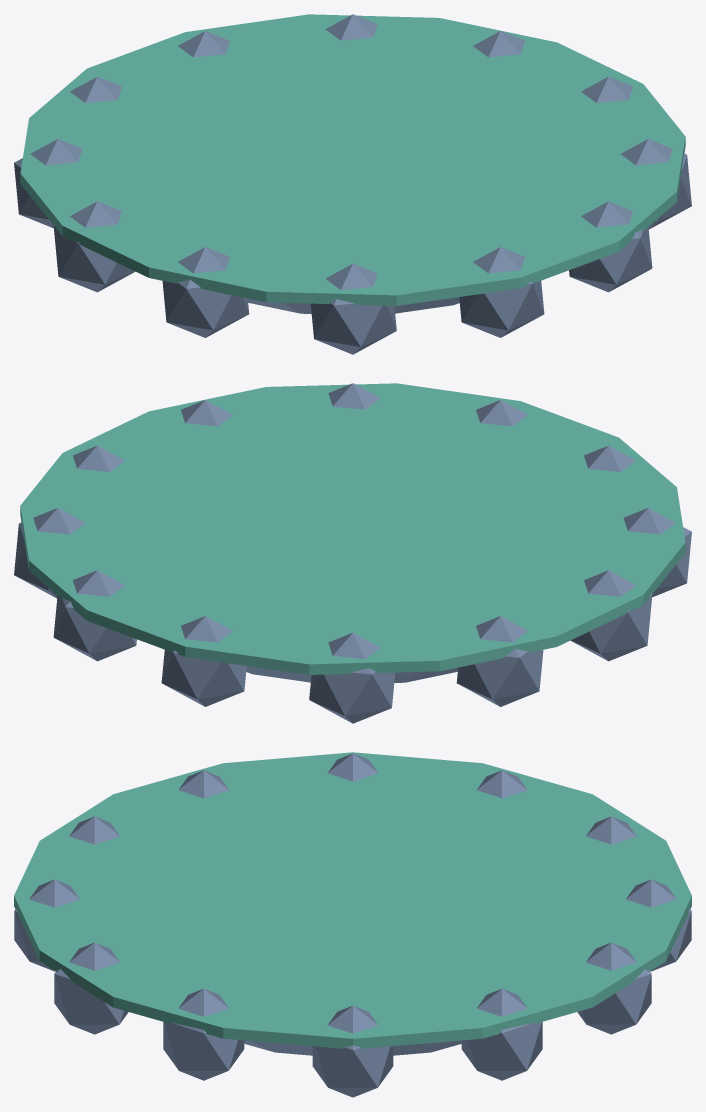
The model's file is island.glb.
The picture shows the model from 3 angles, top to bottom: view 1: azimuth 30°, elevation 25°; view 2: azimuth 150°, elevation 25°; view 3: azimuth 270°, elevation 25°; orthographic projection.
Visible parts, largest first — view 1: Grass rim, Cliff.008, Cliff.007, Cliff.009, Cliff.010, Cliff.006, Cliff.005, Cliff.011, Island rock, Cliff.002, Cliff.003, Cliff (+2 smaller); view 2: Grass rim, Cliff.004, Cliff.005, Cliff.003, Cliff.002, Cliff.006, Cliff.007, Cliff.001, Island rock, Cliff.010, Cliff.009, Cliff (+2 smaller); view 3: Grass rim, Cliff, Cliff.001, Cliff.011, Cliff.002, Cliff.010, Cliff.003, Cliff.009, Island rock, Cliff.006, Cliff.005, Cliff.007 (+2 smaller).
Boxes of the visible parts, x1,y1,x2,y2 form: Grass rim: [20, 14, 685, 305]; Cliff.008: [310, 264, 396, 354]; Cliff.007: [162, 247, 249, 337]; Cliff.009: [459, 247, 544, 337]; Cliff.010: [569, 201, 652, 292]; Cliff.006: [53, 201, 135, 292]; Cliff.005: [14, 139, 82, 228]; Cliff.011: [621, 139, 691, 229]; Island rock: [248, 297, 459, 313]; Cliff.002: [325, 14, 377, 40]; Cliff.003: [178, 31, 229, 57]; Cliff: [581, 76, 632, 102]; Grass rim: [20, 383, 685, 674]; Cliff.004: [309, 633, 395, 723]; Cliff.005: [456, 616, 543, 706]; Cliff.003: [161, 616, 246, 706]; Cliff.002: [53, 570, 136, 661]; Cliff.006: [570, 570, 652, 661]; Cliff.007: [623, 508, 691, 597]; Cliff.001: [14, 508, 84, 598]; Island rock: [246, 666, 457, 682]; Cliff.010: [328, 383, 380, 409]; Cliff.009: [476, 400, 527, 426]; Cliff: [73, 445, 124, 471]; Grass rim: [14, 752, 691, 1048]; Cliff: [312, 1005, 393, 1097]; Cliff.001: [461, 988, 542, 1080]; Cliff.011: [163, 988, 244, 1080]; Cliff.002: [577, 942, 651, 1034]; Cliff.010: [54, 942, 128, 1034]; Cliff.003: [626, 879, 691, 971]; Cliff.009: [14, 879, 79, 971]; Island rock: [244, 1040, 461, 1055]; Cliff.006: [328, 753, 377, 781]; Cliff.005: [477, 770, 527, 798]; Cliff.007: [178, 770, 228, 798].
Size of the model in its own units: 20.28 by 3.05 by 20.
